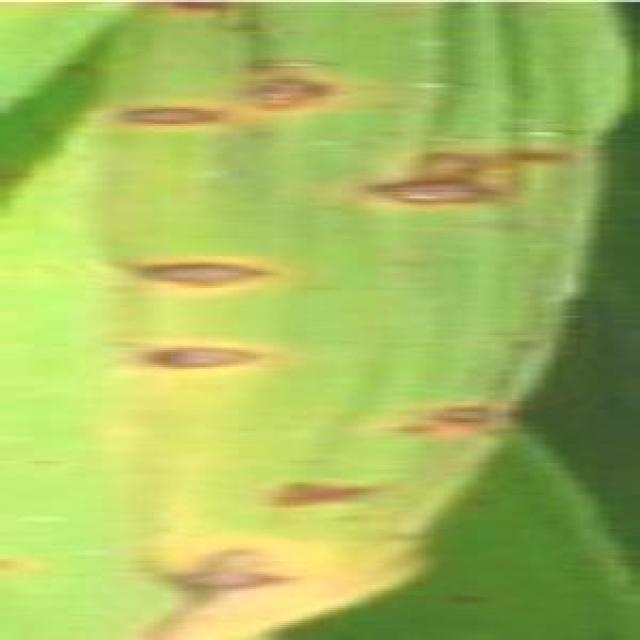Brown_Spot: (98, 324, 288, 386), (352, 162, 523, 222), (113, 241, 284, 299), (246, 465, 404, 521), (134, 554, 310, 602), (85, 90, 241, 138), (222, 70, 352, 118), (403, 136, 506, 188), (495, 124, 595, 177), (416, 392, 523, 440), (228, 45, 356, 77), (367, 412, 439, 446), (437, 583, 497, 610), (446, 484, 499, 514), (149, 0, 250, 15), (19, 448, 66, 469), (0, 544, 21, 584)
